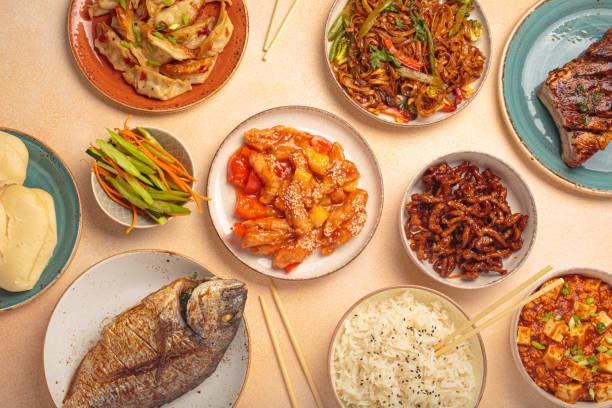Braised Crucian Carp: (41, 250, 245, 407), (204, 103, 380, 280), (323, 0, 490, 129), (65, 0, 244, 114), (327, 284, 488, 406), (397, 150, 538, 288), (509, 266, 611, 406)
